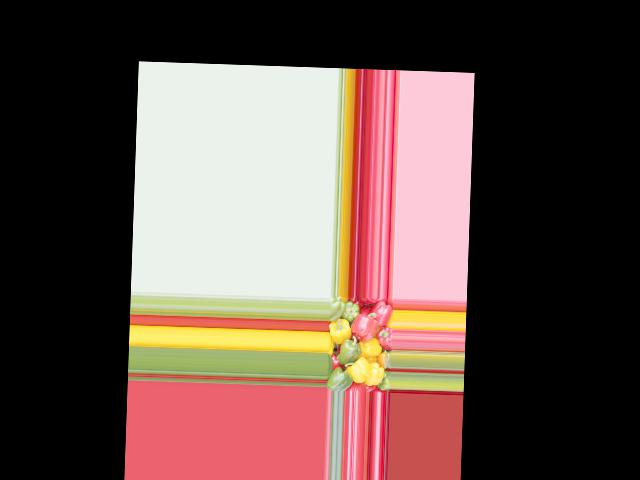bell_pepper: (379, 368, 390, 389)
